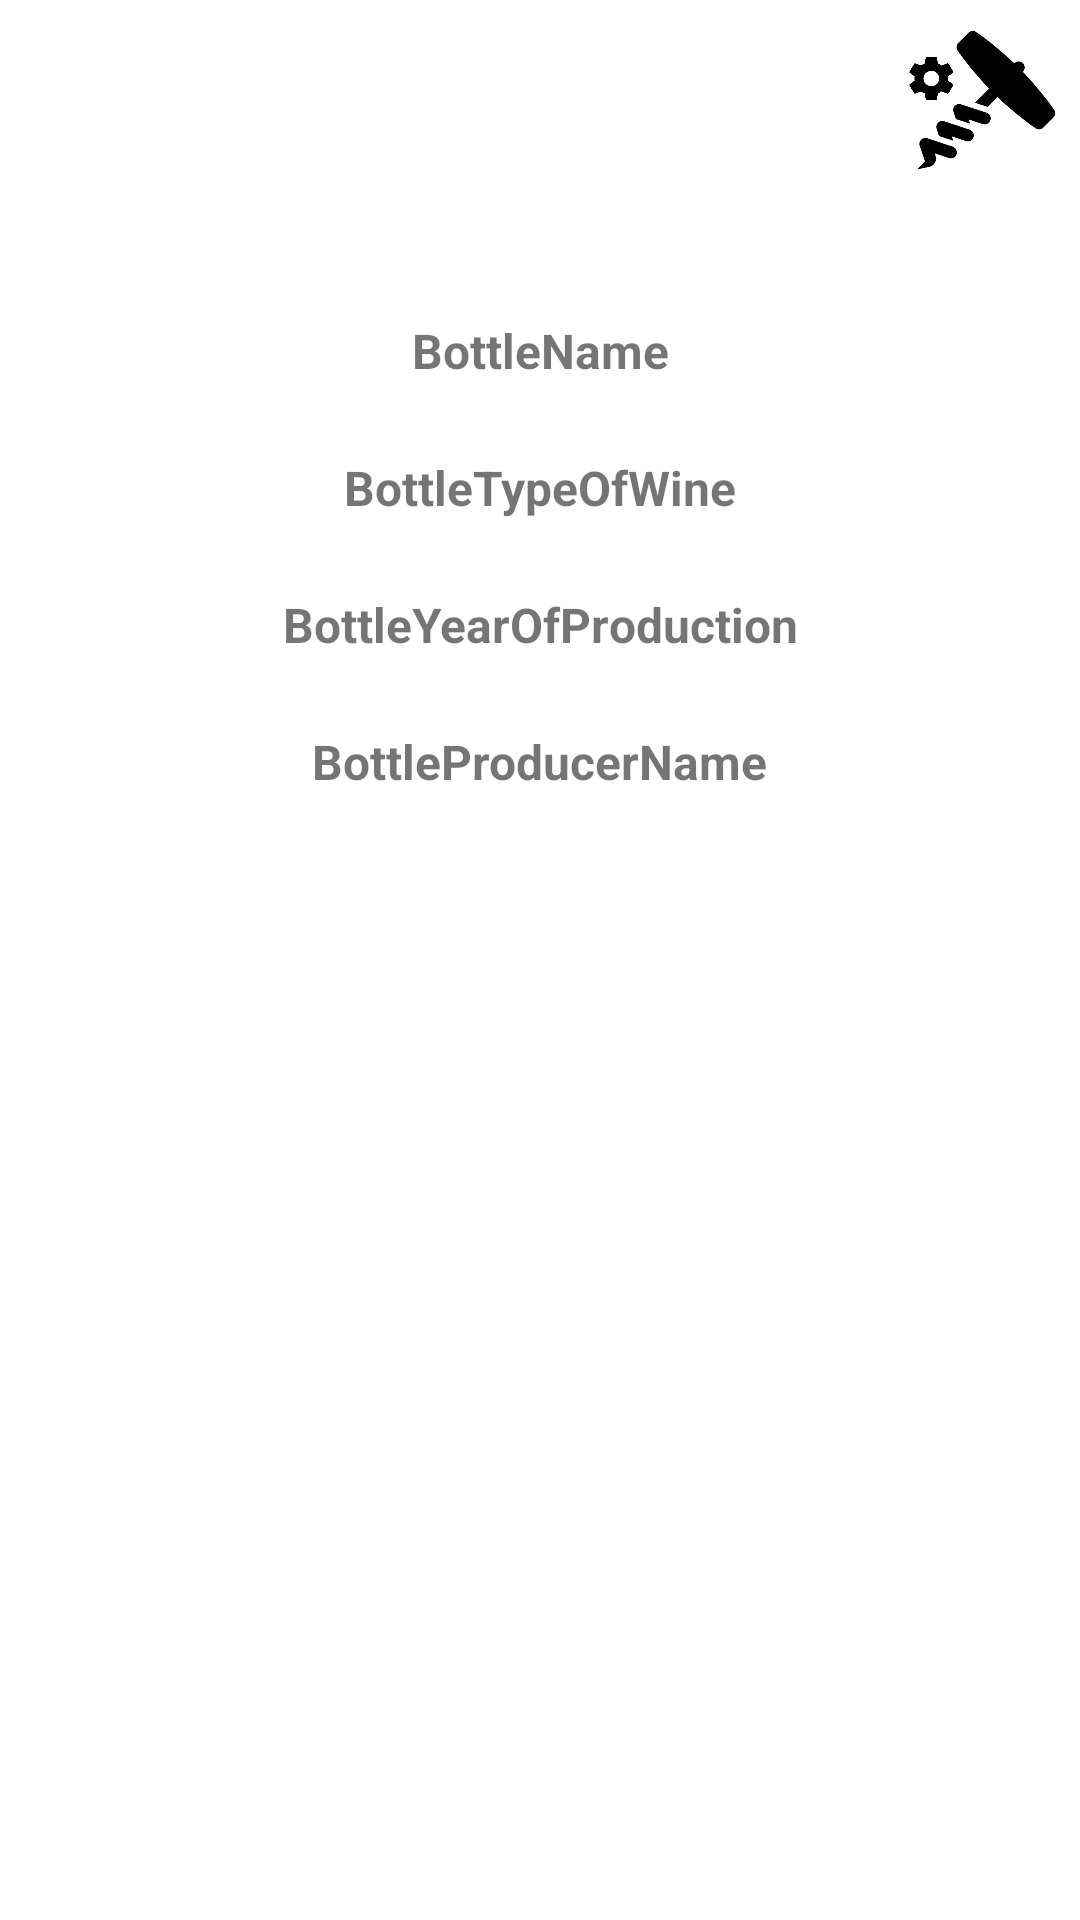

Locate icon controls on the screen. Image size 1080x1920, boxes as (x1, y1, x2, y2).
parameter: (909, 31, 1055, 169)
